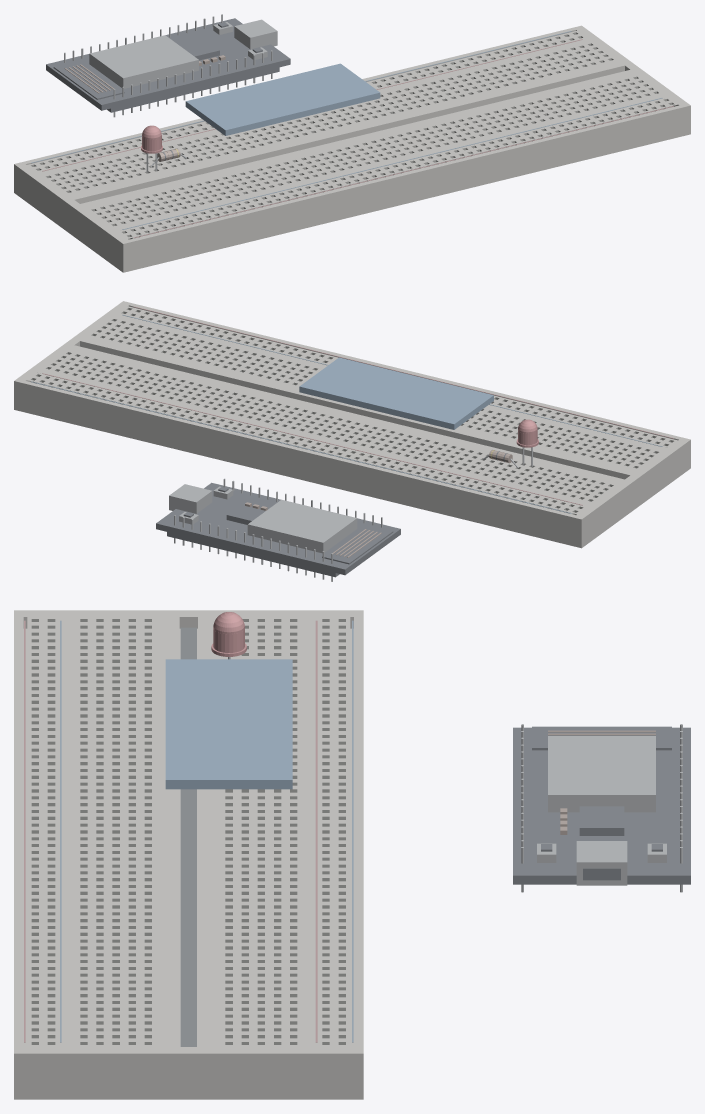
File: step-5.glb
3 renders of one model, top to bottom at view 1: azimuth 30°, elevation 25°; view 2: azimuth 150°, elevation 25°; view 3: azimuth 270°, elevation 25°, orthographic. The views are drawn at different scales.
Parts seen in each view (by area): view 1: breadboard__mesh, uno__mesh, sensor__mesh, led_red__mesh; view 2: breadboard__mesh, uno__mesh, sensor__mesh, led_red__mesh; view 3: breadboard__mesh, uno__mesh, sensor__mesh, led_red__mesh.
Boxes of the visible parts, x1,y1,x2,y2 form: breadboard__mesh: (14, 25, 690, 272); uno__mesh: (46, 14, 290, 117); sensor__mesh: (185, 63, 380, 135); led_red__mesh: (141, 125, 162, 172); breadboard__mesh: (14, 301, 690, 548); uno__mesh: (156, 478, 400, 581); sensor__mesh: (299, 357, 493, 429); led_red__mesh: (516, 419, 538, 466); breadboard__mesh: (14, 610, 363, 1099); uno__mesh: (513, 724, 690, 892); sensor__mesh: (165, 659, 292, 789); led_red__mesh: (211, 612, 246, 659).
Size of the model in its own units: 0.165 by 0.0205 by 0.1065.
